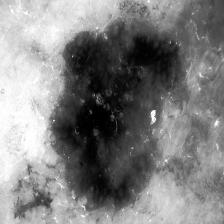Benign Marking or Mole: (47, 25, 180, 204)
